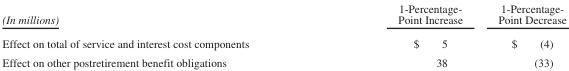table: (1, 1, 565, 68)
table column: (1, 1, 322, 68), (322, 1, 479, 68), (479, 1, 565, 68)
table column header: (1, 1, 565, 31)
table row: (1, 1, 565, 31), (1, 31, 565, 52), (1, 52, 565, 68)
